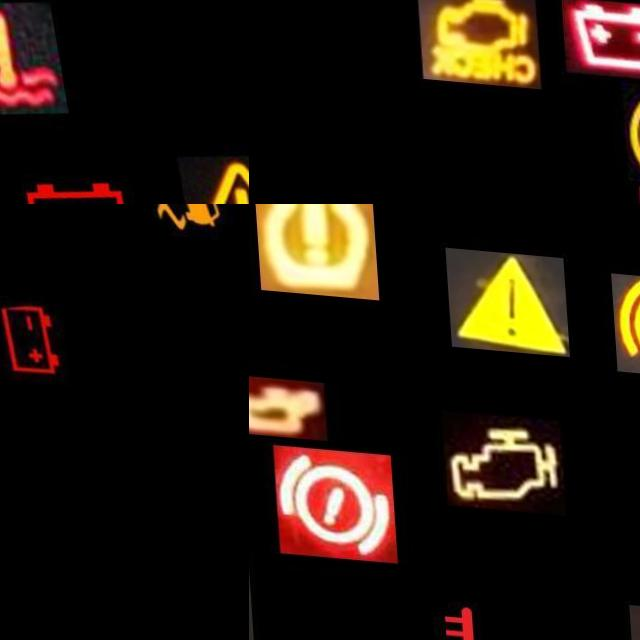Central Warning lamp: (443, 241, 567, 348), (169, 138, 249, 204)
Engine cooling system: (399, 577, 523, 640), (0, 0, 63, 121)
